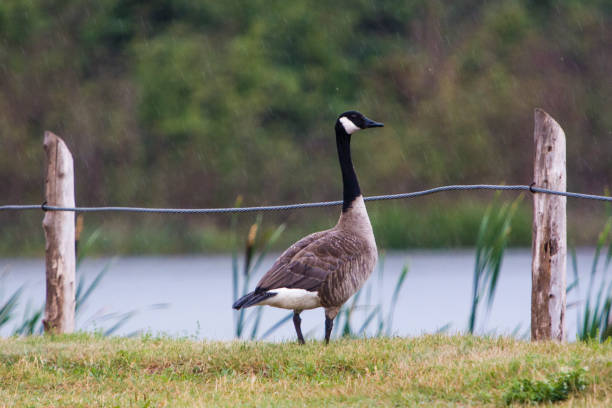goose: (227, 108, 387, 350)
